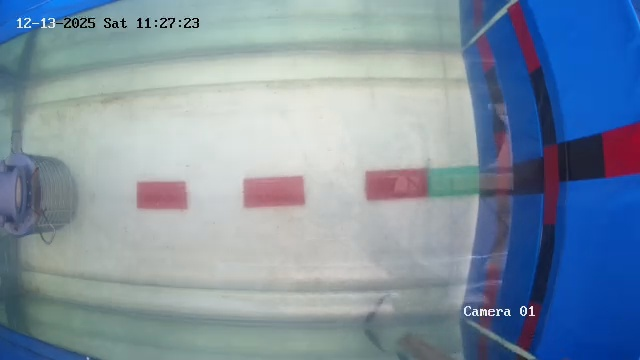fish: (295, 311, 334, 330)
